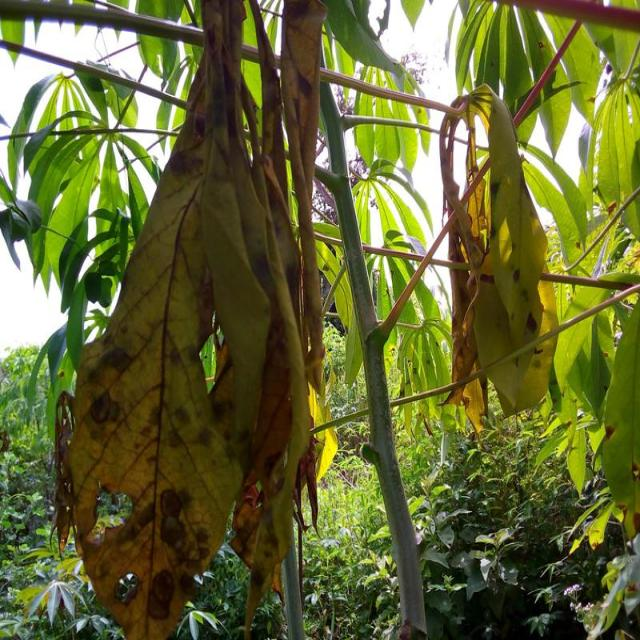cassava leaf: (63, 1, 315, 638), (458, 82, 560, 417)
